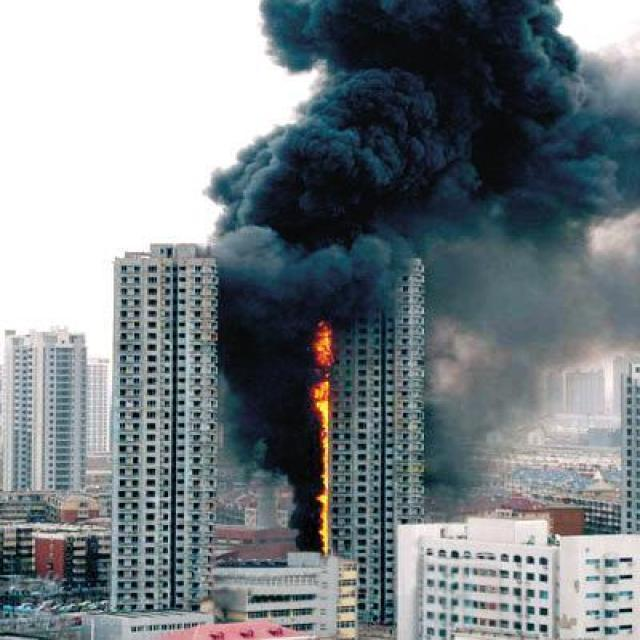Fire: (312, 320, 328, 550)
Smoke: (203, 1, 640, 270), (216, 272, 308, 518)
